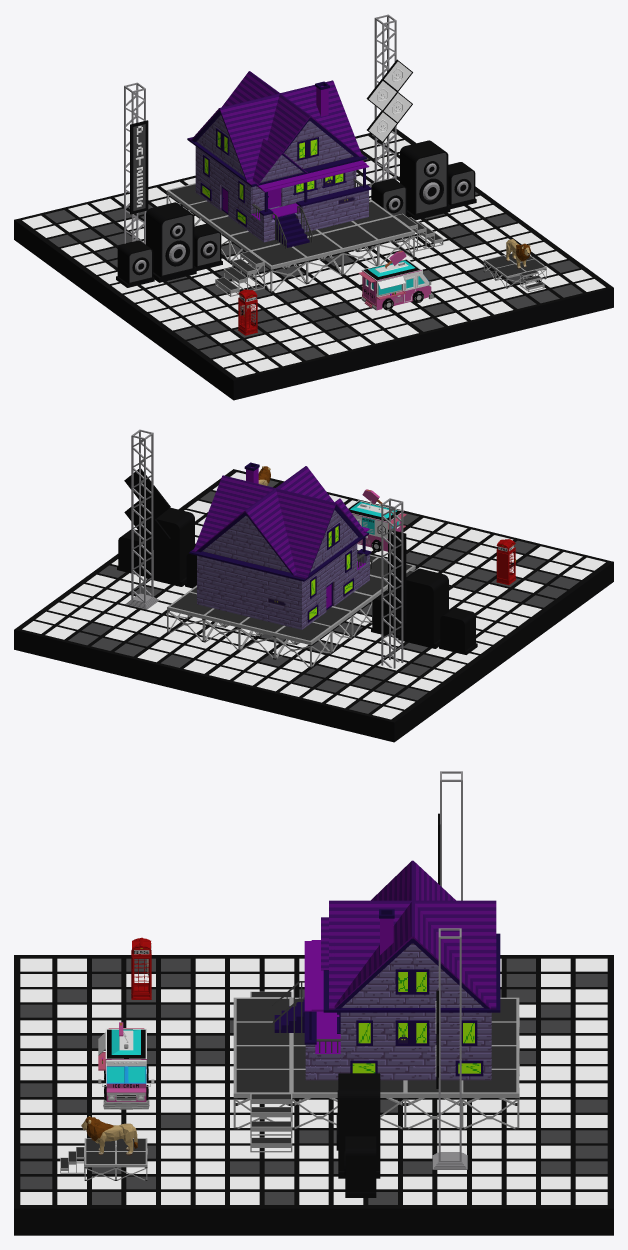
The picture shows the model from 3 angles, top to bottom: view 1: azimuth 30°, elevation 25°; view 2: azimuth 150°, elevation 25°; view 3: azimuth 270°, elevation 25°; orthographic projection. The views are drawn at different scales.
Parts seen in each view (by area): view 1: Cube.008, Cube.039, VEHICLES_ICE_CREAM_TRUCK, OBJRANDOM_PHONEBOOTH; view 2: Cube.008, Cube.039, VEHICLES_ICE_CREAM_TRUCK, OBJRANDOM_PHONEBOOTH; view 3: Cube.008, Cube.039, VEHICLES_ICE_CREAM_TRUCK, ANIMAL_LEON, OBJRANDOM_PHONEBOOTH.
Part boxes in pixels (left/top/right/bottom): Cube.008: left=14, top=14, right=613, bottom=400; Cube.039: left=187, top=71, right=371, bottom=248; VEHICLES_ICE_CREAM_TRUCK: left=358, top=250, right=434, bottom=310; OBJRANDOM_PHONEBOOTH: left=238, top=289, right=257, bottom=335; Cube.008: left=14, top=429, right=613, bottom=742; Cube.039: left=189, top=462, right=372, bottom=629; VEHICLES_ICE_CREAM_TRUCK: left=348, top=489, right=406, bottom=551; OBJRANDOM_PHONEBOOTH: left=496, top=539, right=516, bottom=585; Cube.008: left=14, top=771, right=613, bottom=1235; Cube.039: left=272, top=860, right=500, bottom=1080; VEHICLES_ICE_CREAM_TRUCK: left=98, top=1022, right=154, bottom=1109; ANIMAL_LEON: left=81, top=1116, right=137, bottom=1155; OBJRANDOM_PHONEBOOTH: left=131, top=937, right=151, bottom=999.
Bounding box in the file's own units: 4000 × 1950 × 4000.
Materials: 53 (4 with a texture image).
